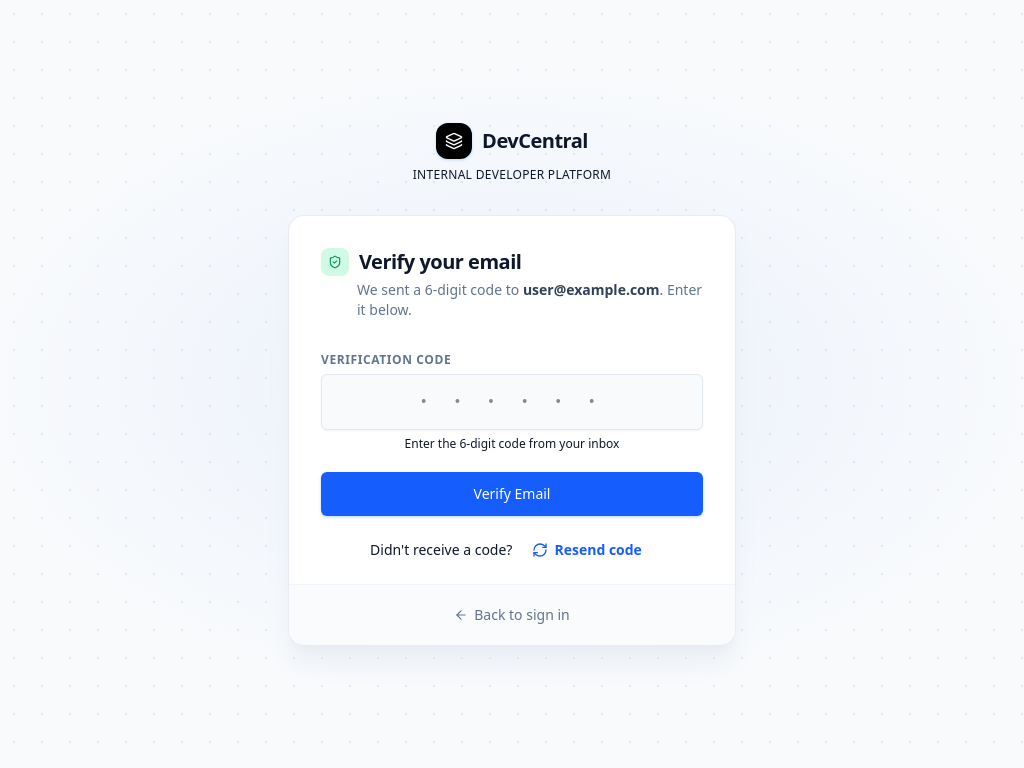
Test: VerifyEmailPage › shows the resend confirmation after clicking 'Resend code'
This screenshot has width=1024, height=768.
Click the button "Resend code" at (587,550), box [520,540,654,560]
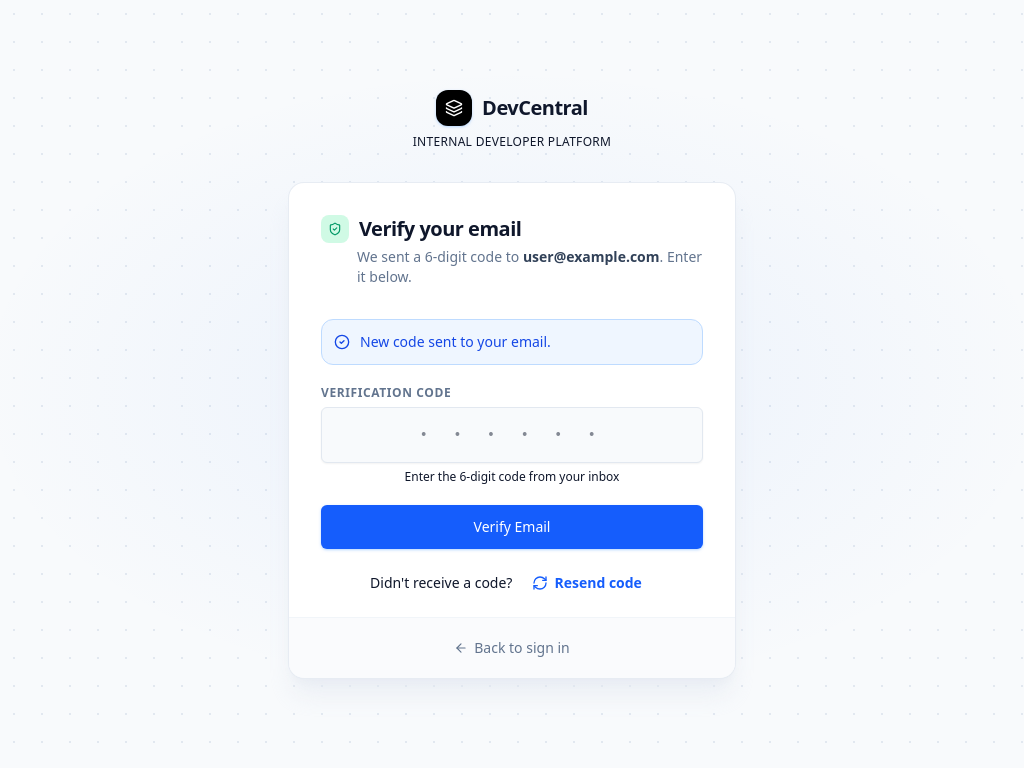
Result: the text "New code sent to your email." is shown at [360,332,551,352]
